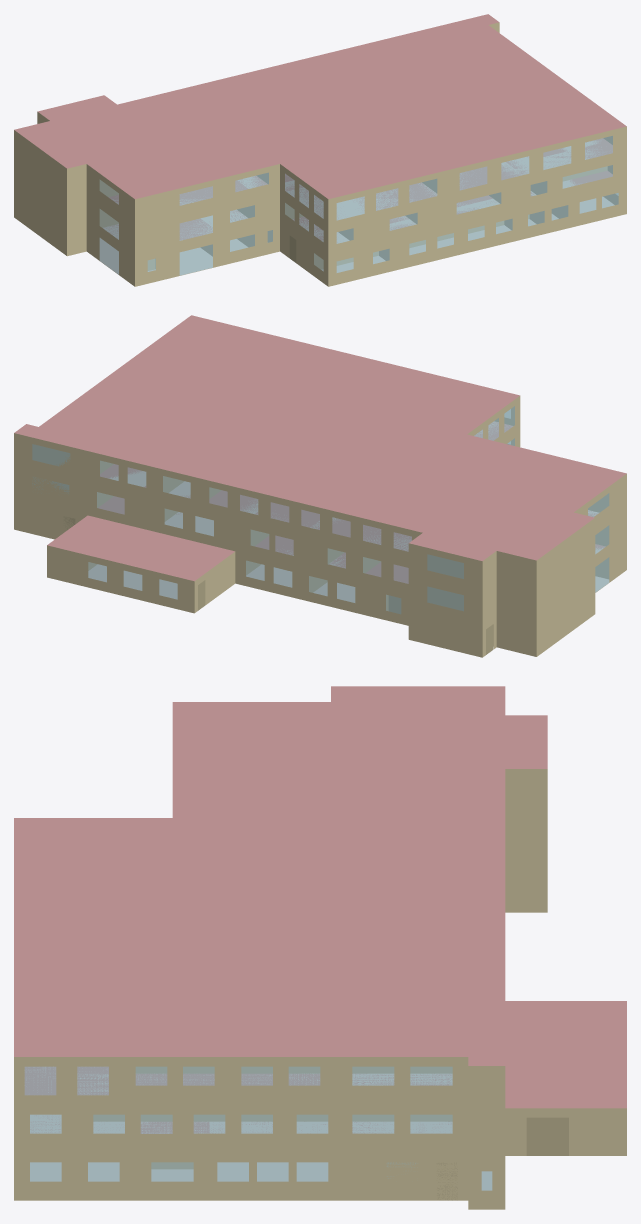
The model's file is RefBldgOutPatientNew2004_Chicago.gltf.
The picture shows the model from 3 angles, top to bottom: view 1: azimuth 30°, elevation 25°; view 2: azimuth 150°, elevation 25°; view 3: azimuth 270°, elevation 25°; orthographic projection. The views are drawn at different scales.
Visible parts, largest first — view 1: Floor 3 Office Roof, Floor 3 Undeveloped 1 Roof, Floor 3 Phyical Therapy 1 Roof, Floor 3 Undeveloped 2 Roof, Floor 3 Office Hall Roof, C1BC97, Floor 3 Lounge Roof, Z_UP, 28B002, 850EA7, FCD12D, Floor 3 Physical Therapy 2 Roof (+65 smaller); view 2: Floor 3 Office Roof, Floor 3 Undeveloped 1 Roof, Floor 3 Phyical Therapy 1 Roof, 88E360, Floor 3 Undeveloped 2 Roof, 2E2D0C, 5ADC59, Floor 1 Storge Roof, Floor 3 Office Hall Roof, Floor 3 Lounge Roof, FCD12D, 859BC1 (+49 smaller); view 3: Floor 3 Office Roof, Floor 3 Undeveloped 1 Roof, Floor 3 Phyical Therapy 1 Roof, Floor 3 Undeveloped 2 Roof, Floor 1 Storge Roof, Floor 3 Office Hall Roof, Floor 3 Lounge Roof, C86329, 4B1439, Floor 3 Physical Therapy 2 Roof, Floor 3 Work Roof, AF0124 (+46 smaller).
Part boxes in pixels (bbox=[...]): Floor 3 Office Roof: bbox=[67, 54, 376, 155]; Floor 3 Undeveloped 1 Roof: bbox=[242, 107, 444, 199]; Floor 3 Phyical Therapy 1 Roof: bbox=[413, 103, 626, 170]; Floor 3 Undeveloped 2 Roof: bbox=[97, 135, 279, 190]; Floor 3 Office Hall Roof: bbox=[87, 69, 483, 170]; C1BC97: bbox=[445, 126, 626, 199]; Floor 3 Lounge Roof: bbox=[357, 30, 473, 84]; Z_UP: bbox=[328, 181, 626, 286]; 28B002: bbox=[398, 210, 523, 269]; 850EA7: bbox=[135, 191, 168, 286]; FCD12D: bbox=[35, 145, 66, 255]; Floor 3 Physical Therapy 2 Roof: bbox=[427, 93, 555, 137]; Floor 3 Office Roof: bbox=[196, 434, 536, 546]; Floor 3 Undeveloped 1 Roof: bbox=[295, 364, 519, 465]; Floor 3 Phyical Therapy 1 Roof: bbox=[156, 315, 390, 389]; 88E360: bbox=[14, 433, 87, 539]; Floor 3 Undeveloped 2 Roof: bbox=[425, 434, 612, 504]; 2E2D0C: bbox=[408, 543, 482, 657]; 5ADC59: bbox=[195, 477, 422, 561]; Floor 1 Storge Roof: bbox=[72, 521, 234, 581]; Floor 3 Office Hall Roof: bbox=[146, 400, 583, 512]; Floor 3 Lounge Roof: bbox=[88, 408, 216, 468]; FCD12D: bbox=[559, 518, 595, 639]; 859BC1: bbox=[71, 551, 194, 613]; Floor 3 Office Roof: bbox=[331, 728, 505, 934]; Floor 3 Undeveloped 1 Roof: bbox=[14, 818, 299, 911]; Floor 3 Phyical Therapy 1 Roof: bbox=[14, 912, 119, 1056]; Floor 3 Undeveloped 2 Roof: bbox=[172, 702, 299, 817]; Floor 1 Storge Roof: bbox=[505, 1001, 626, 1090]; Floor 3 Office Hall Roof: bbox=[299, 702, 330, 1012]; Floor 3 Lounge Roof: bbox=[331, 961, 505, 1012]; C86329: bbox=[119, 1057, 336, 1104]; 4B1439: bbox=[77, 1105, 288, 1152]; Floor 3 Physical Therapy 2 Roof: bbox=[119, 943, 204, 1025]; Floor 3 Work Roof: bbox=[119, 1025, 336, 1056]; AF0124: bbox=[505, 769, 547, 912].
Bounding box in the file's own units: 51.82 × 9.14 × 35.36.
